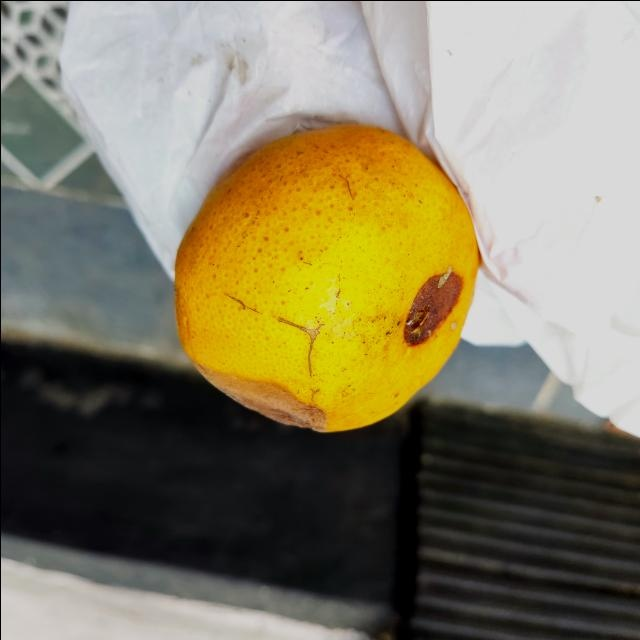agrume: (172, 116, 480, 431)
